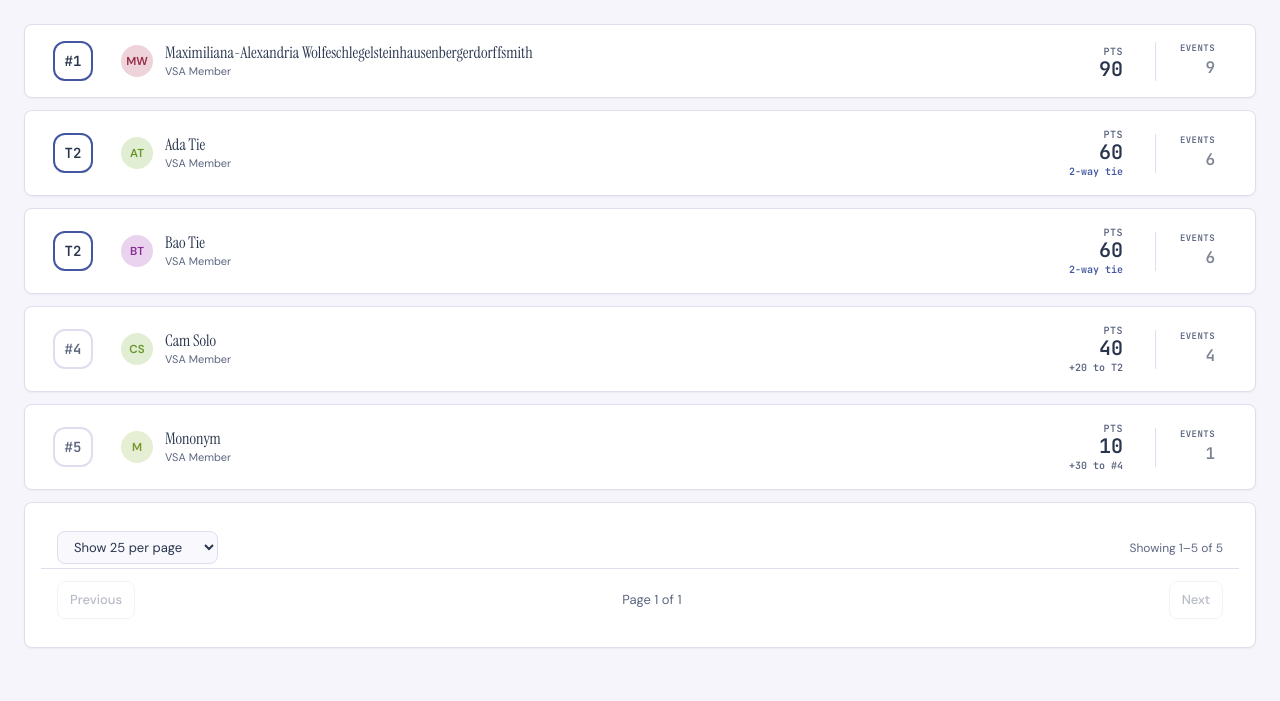
Test: Leaderboard member profile on phones › shows the House as text, and nothing when the member has none
(page scrolled)
What coordinates should you click on to do the following:
click the button with aria-label "Open profile for Cam Solo"
I would click on:
 (191, 341)
Its box is [165,331,216,351].
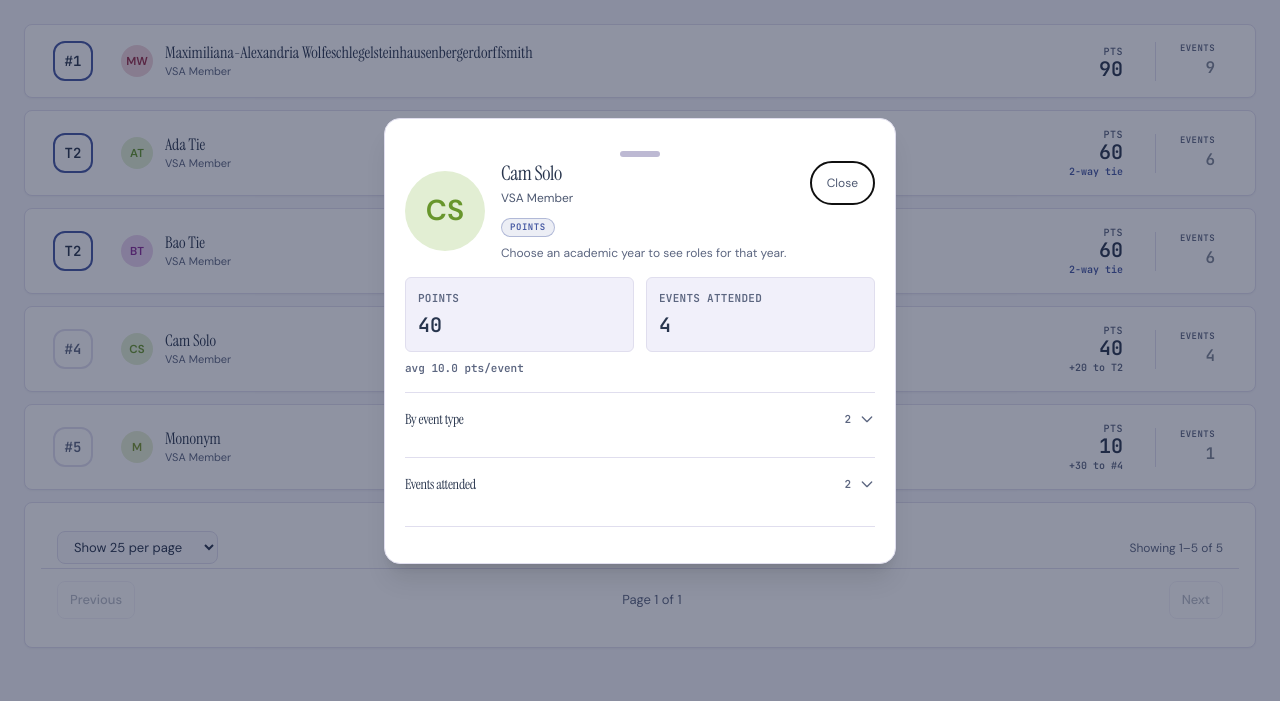
Check: the text "Bowser" is not shown
What coordinates should you click on to do the following:
click the button "Close"
I would click on:
 (842, 183)
Its box is [810,161,875,205].
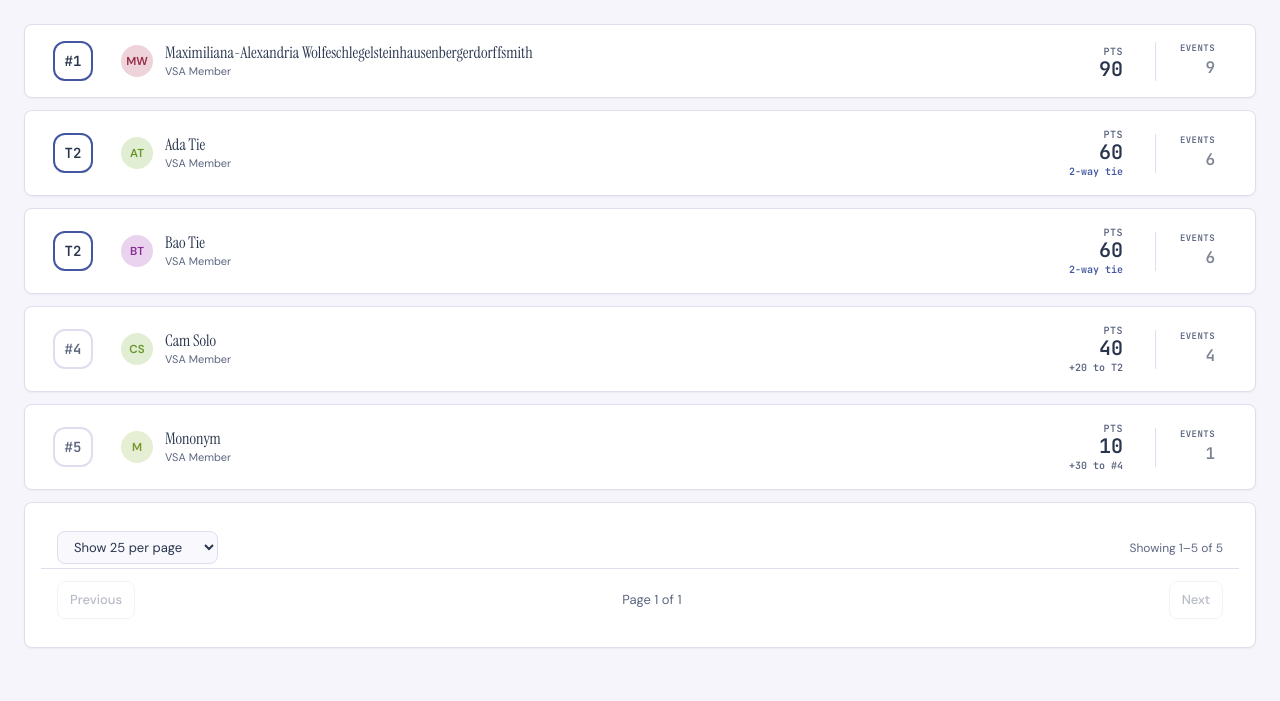
Check: the dialog is gone
What coordinates should you click on to do the following:
click the button with aria-label "Open profile for Cam Solo"
I would click on:
 (191, 341)
Its box is [165,331,216,351].
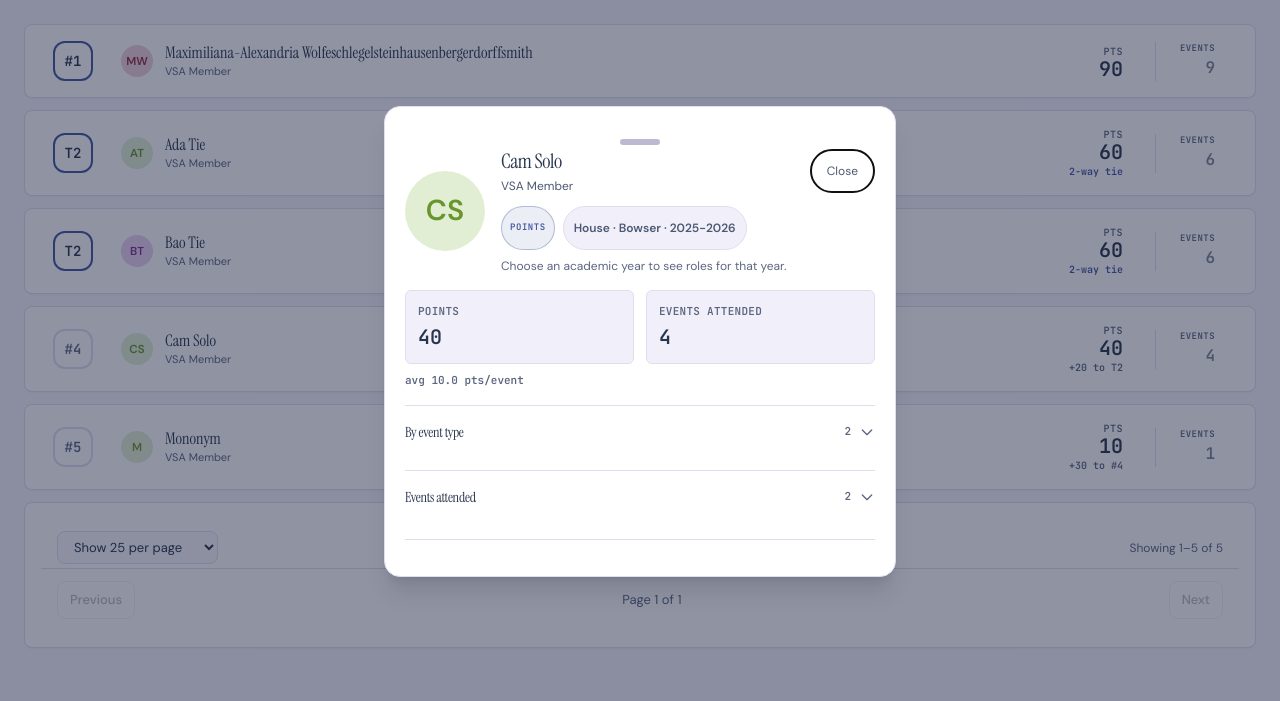
Check: the link "House · Bowser · 2025-2026" is shown, box [563,206,747,250]
